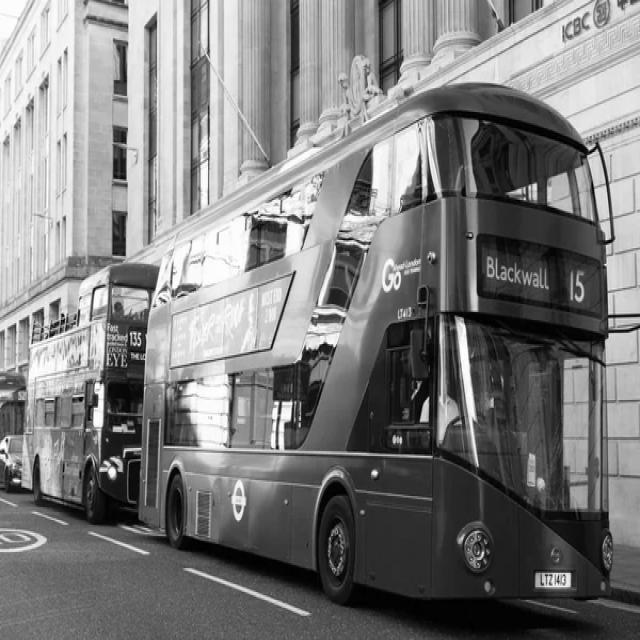Bus: (139, 83, 614, 602), (21, 266, 158, 523)
